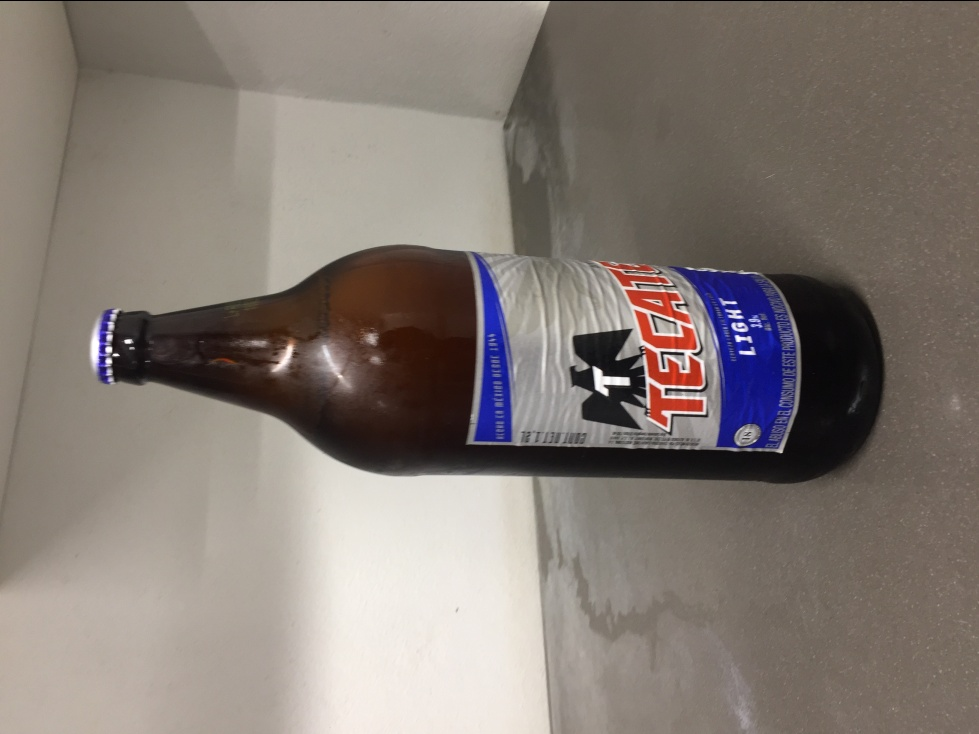tecateC: (87, 243, 886, 483)
